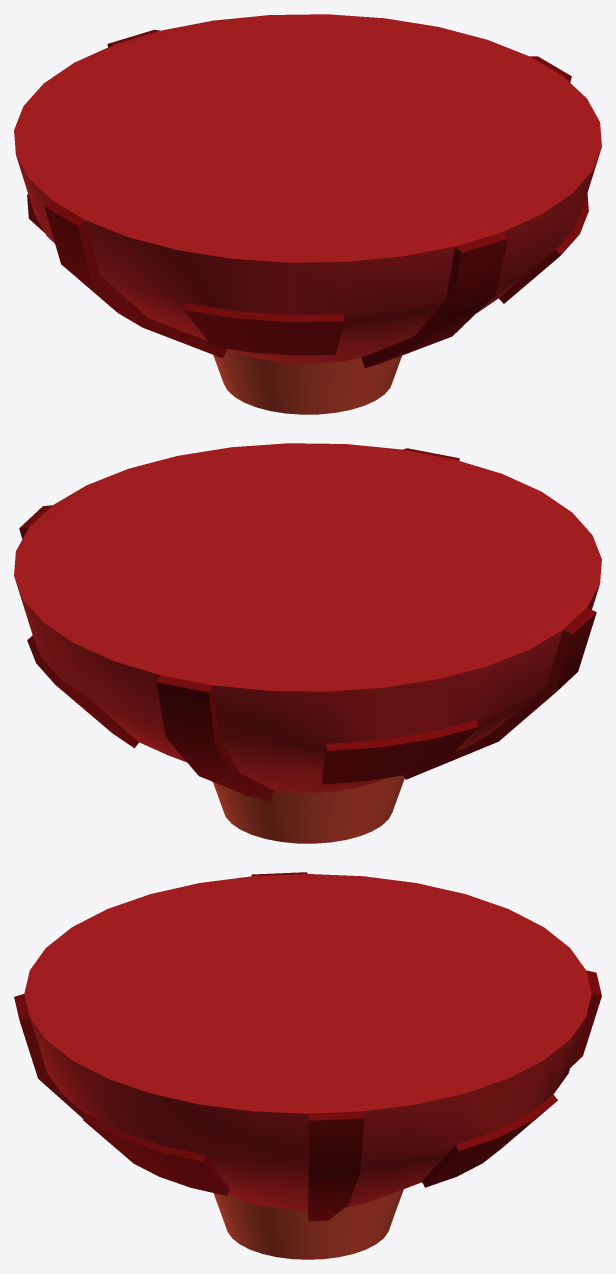
Rendered from tip4.glb.
3 views of the same model, one above another, from view 1: azimuth 30°, elevation 25°; view 2: azimuth 150°, elevation 25°; view 3: azimuth 270°, elevation 25° (orthographic). The views are drawn at different scales.
Parts seen in each view (by area): view 1: tip; view 2: tip; view 3: tip.
Boxes of the visible parts, x1,y1,x2,y2 form: tip: [14, 14, 601, 414]; tip: [14, 443, 601, 843]; tip: [14, 872, 601, 1259].
Size of the model in its own units: 0.2073 by 0.09 by 0.2073.
